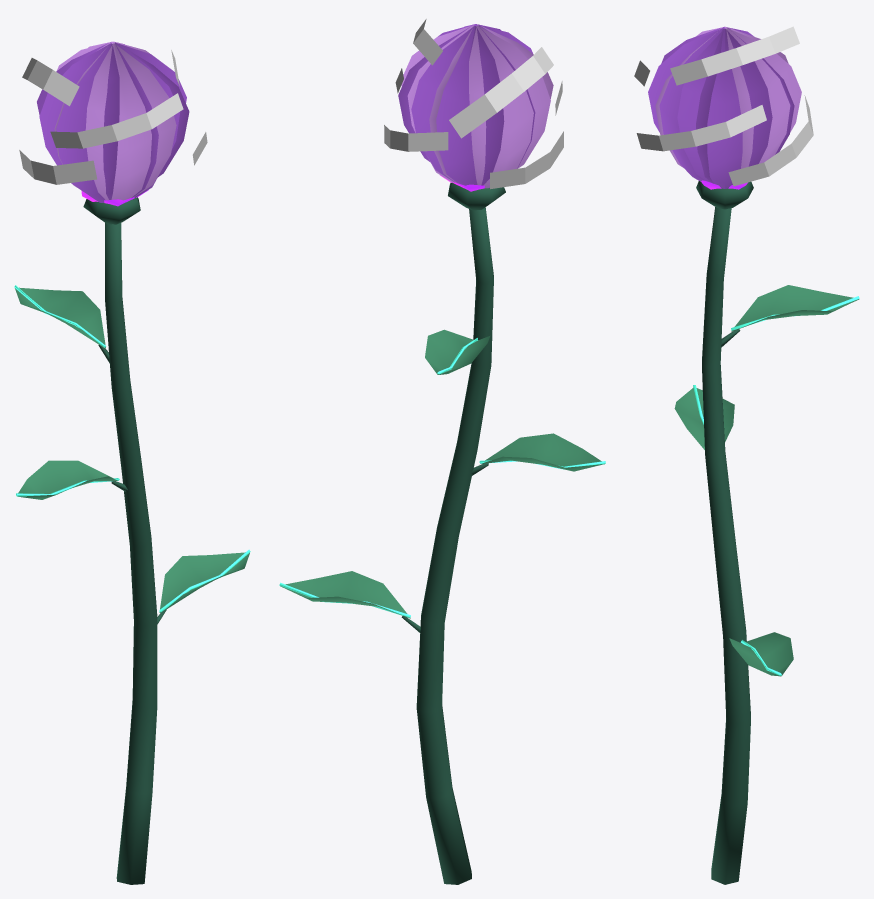
Rendered from electric_flower.glb.
3 renders of one model, left to right at view 1: azimuth 30°, elevation 25°; view 2: azimuth 150°, elevation 25°; view 3: azimuth 270°, elevation 25°, orthographic. The views are drawn at different scales.
Visible parts, largest first — view 1: Root, Petals, Lightning_placeholder_01.001, Lightning_placeholder_01.002, Lightning_placeholder_01.005; view 2: Root, Petals, Lightning_placeholder_01.005, Lightning_placeholder_01.002, Lightning_placeholder_01.003; view 3: Root, Petals, Lightning_placeholder_01.004, Lightning_placeholder_01, Lightning_placeholder_01.003.
Part boxes in pixels (x1,y1,x2,y2): Root: (14, 197, 250, 884); Petals: (37, 41, 189, 202); Lightning_placeholder_01.001: (50, 93, 183, 148); Lightning_placeholder_01.002: (19, 150, 96, 184); Lightning_placeholder_01.005: (22, 58, 79, 106); Root: (279, 182, 605, 884); Petals: (398, 24, 553, 188); Lightning_placeholder_01.005: (449, 47, 553, 138); Lightning_placeholder_01.002: (490, 131, 563, 189); Lightning_placeholder_01.003: (384, 125, 448, 151); Root: (674, 181, 859, 884); Petals: (648, 26, 801, 188); Lightning_placeholder_01.004: (670, 26, 799, 85); Lightning_placeholder_01: (636, 105, 766, 151); Lightning_placeholder_01.003: (728, 95, 813, 186).
Size of the model in its own units: 0.2795 by 0.8189 by 0.1976.
